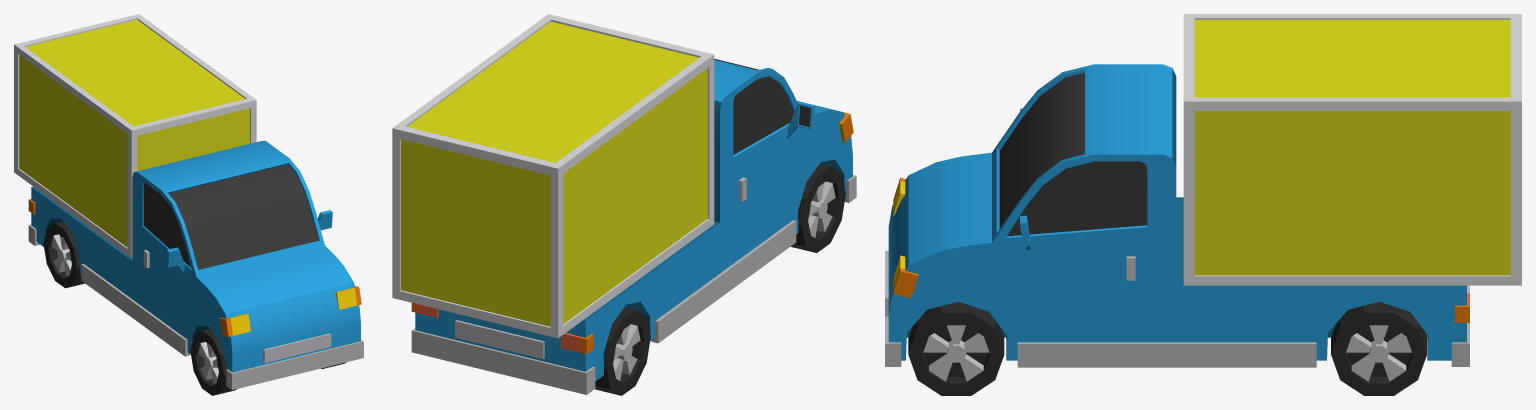
File: CargoVehicle2.fbx
3 renders of one model, left to right at view 1: azimuth 30°, elevation 25°; view 2: azimuth 150°, elevation 25°; view 3: azimuth 270°, elevation 25°, orthographic. The views are drawn at different scales.
Visible parts, largest first — view 1: Vehicle, CargoPackage; view 2: CargoPackage, Vehicle; view 3: Vehicle, CargoPackage.
Part boxes in pixels (x1=…): Vehicle: x1=28, y1=140, x2=363, y2=395; CargoPackage: x1=14, y1=14, x2=256, y2=258; CargoPackage: x1=392, y1=14, x2=714, y2=338; Vehicle: x1=411, y1=59, x2=856, y2=395; Vehicle: x1=885, y1=64, x2=1469, y2=395; CargoPackage: x1=1183, y1=14, x2=1521, y2=285.
Size of the model in its own units: 240 by 284 by 562.
Materials: 1 (1 with a texture image).
